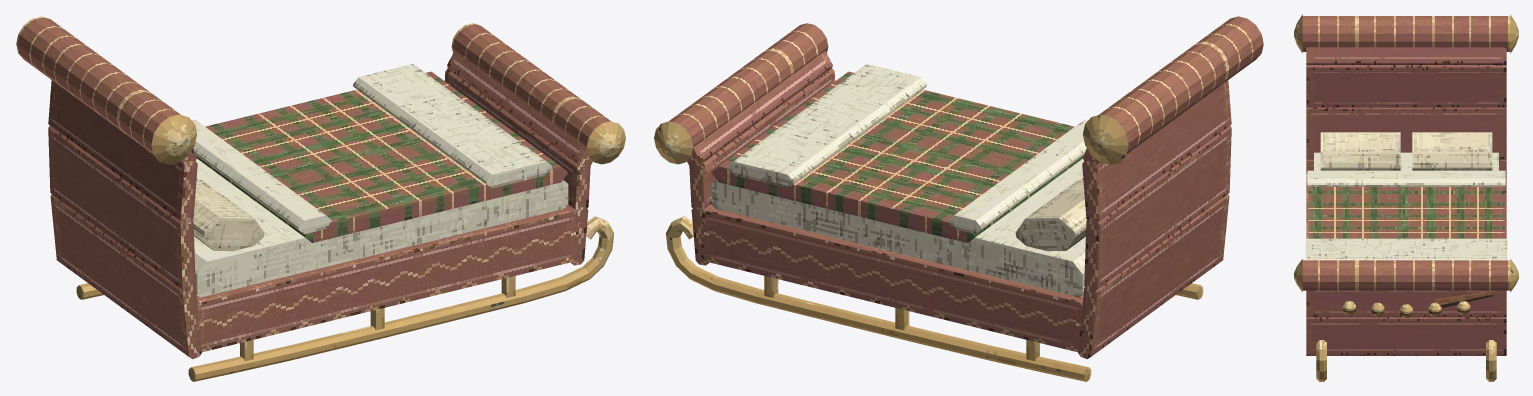
File: sleigh_bed.glb
The picture shows the model from 3 angles, left to right: view 1: azimuth 30°, elevation 25°; view 2: azimuth 150°, elevation 25°; view 3: azimuth 270°, elevation 25°; orthographic projection. The views are drawn at different scales.
Parts seen in each view (by area): view 1: static; view 2: static; view 3: static.
Boxes of the visible parts, x1,y1,x2,y2 form: static: [16, 16, 625, 381]; static: [654, 16, 1263, 381]; static: [1294, 14, 1518, 381].
Bounding box in the file's own units: 2.72 × 1.56 × 1.48.
Materials: 1 (1 with a texture image).
